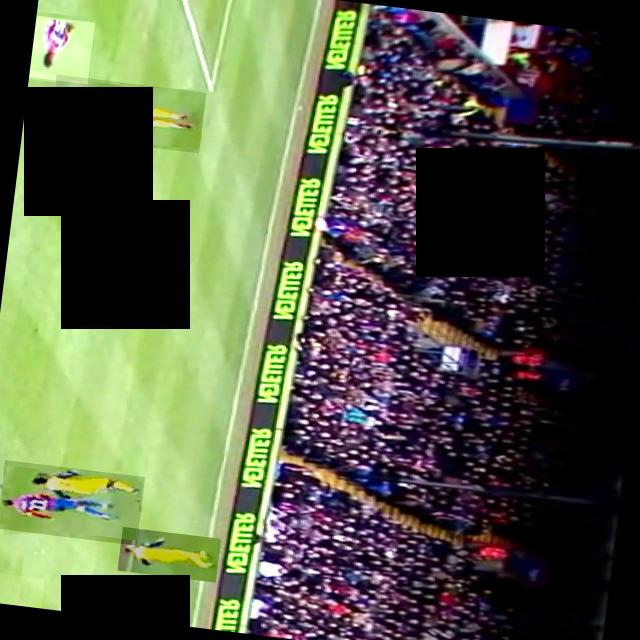referee: (0, 572, 43, 608)
soccer-player: (48, 74, 204, 153), (0, 459, 143, 545), (116, 526, 220, 582), (28, 15, 94, 84)
